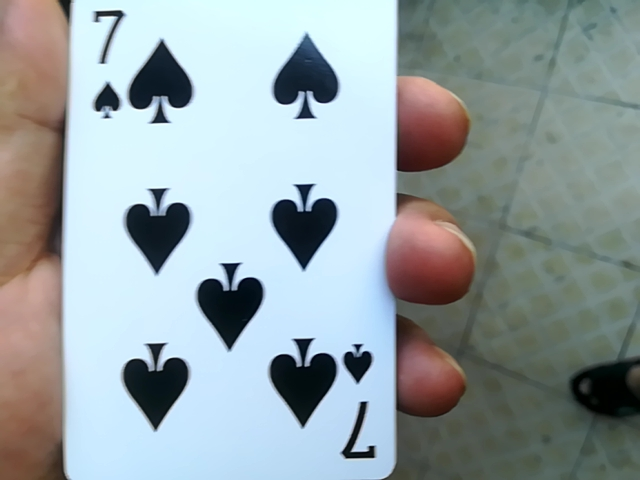ht 7: (49, 12, 407, 467)
